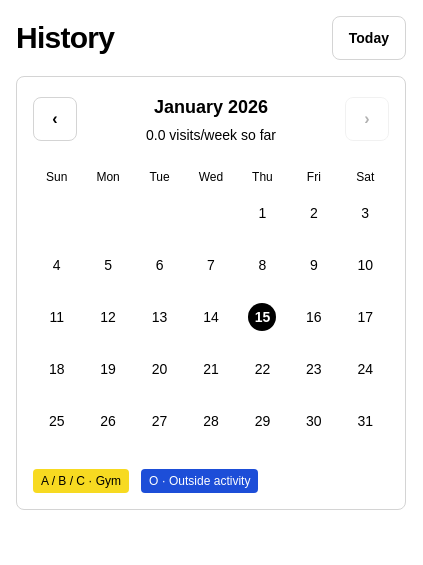
Test case: HistoryPage › loads the chosen month and supports year boundaries and returning to this month
Check: the button named "Next month" is disabled, box [345,97,389,141]
Click the button named "Previous month" at (55, 119), box [33,97,77,141]
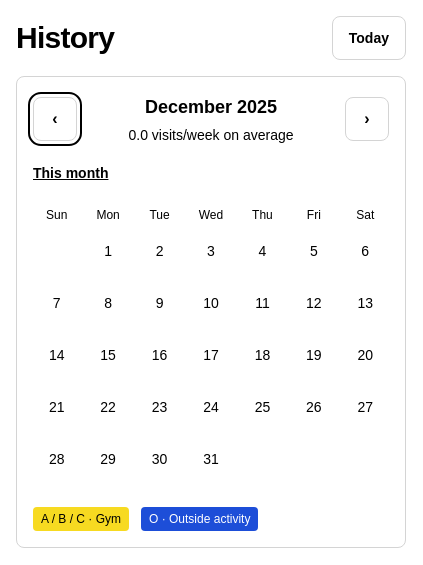
Check: the heading "December 2025" is shown, box [145,97,277,117]
Click the button "This month" at (71, 173), box [33,163,108,183]
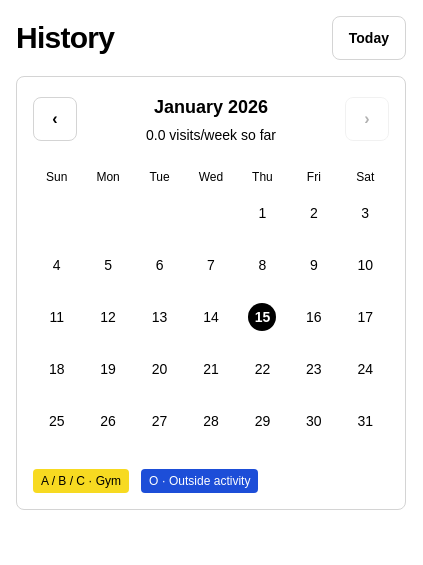
Check: the heading "January 2026" is shown, box [146,93,276,121]
